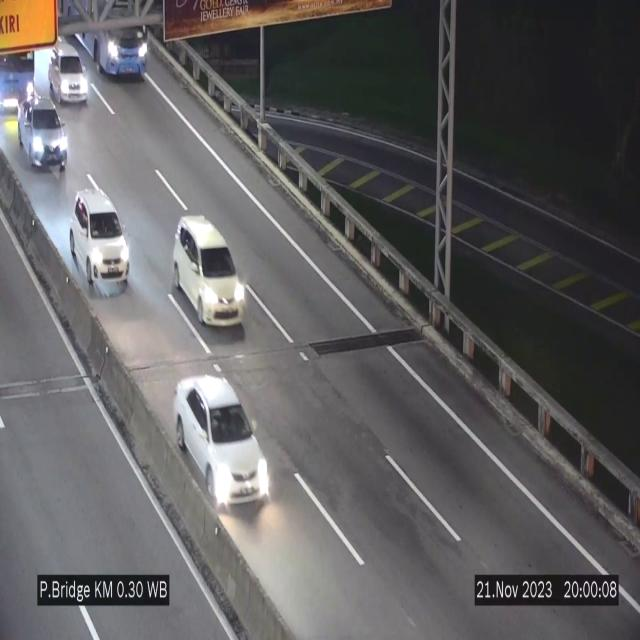Bus: (50, 0, 156, 78), (0, 7, 44, 129)
Car: (175, 376, 269, 506), (172, 216, 245, 328), (68, 187, 130, 296), (18, 91, 68, 171), (48, 39, 88, 104)
